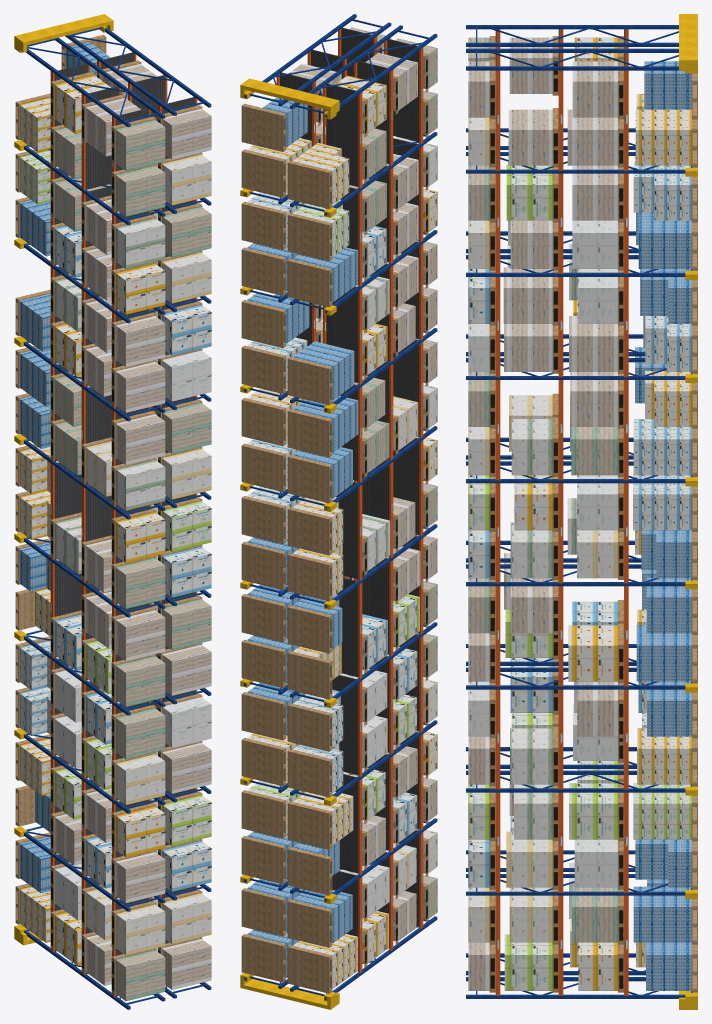
File: racks_e1_s.gltf
3 views of the same model, side by side, from view 1: azimuth 30°, elevation 25°; view 2: azimuth 150°, elevation 25°; view 3: azimuth 270°, elevation 25° (orthographic). The views are drawn at different scales.
Visible parts, largest first — view 1: racks_e1_s; view 2: racks_e1_s; view 3: racks_e1_s.
Boxes of the visible parts, <box> form: racks_e1_s: <box>14,14,211,1009</box>; racks_e1_s: <box>240,14,437,1009</box>; racks_e1_s: <box>466,14,697,1009</box>.
Bounding box in the file's own units: 2.6 × 24.86 × 5.5.
Materials: 18 (18 with a texture image).
